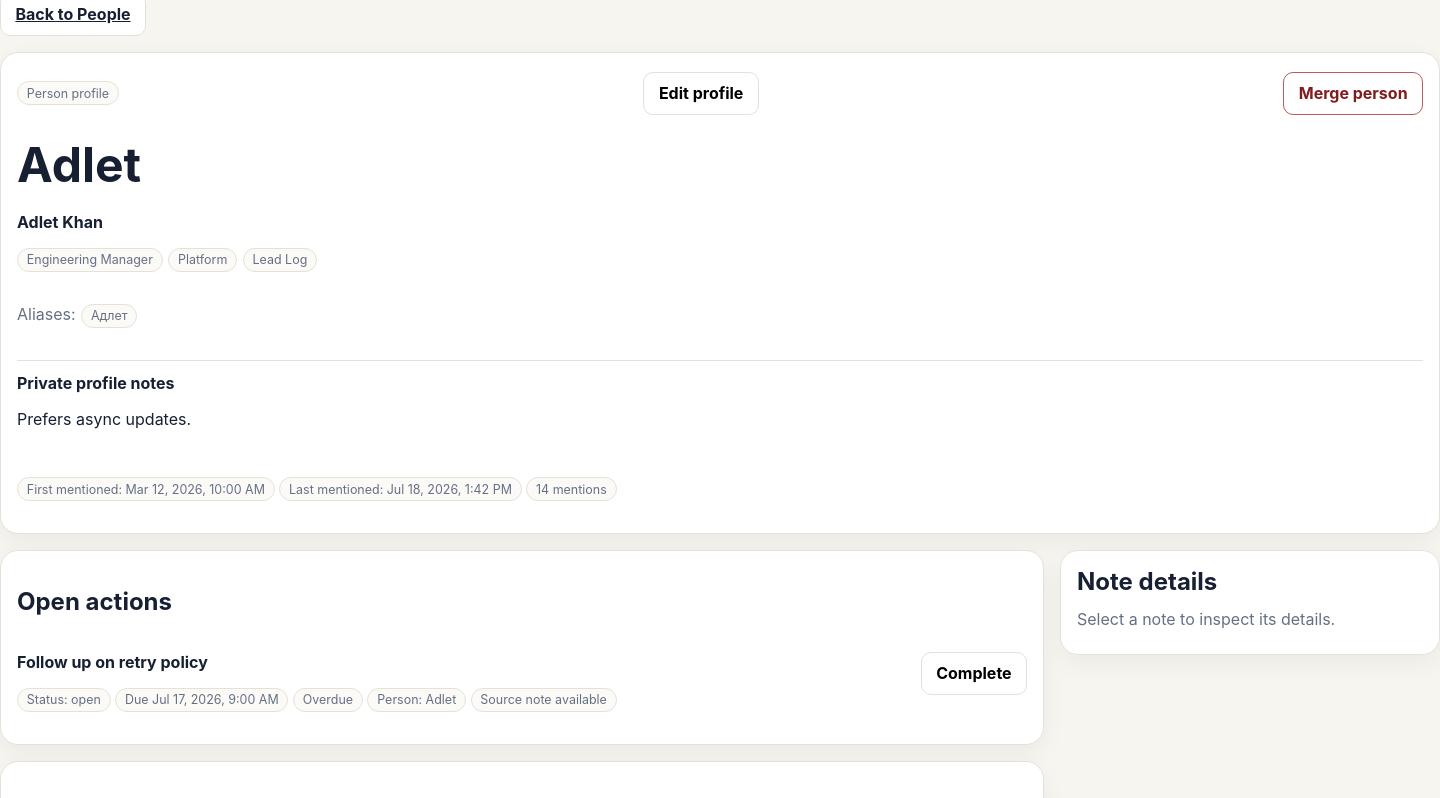
Scenario: PersonDetailPage › completes an action locally and shows section-level mutation failures
Expected: the text "Follow up on retry policy" is shown, [17,652,208,672]
Click the button with aria-label "Complete action": (974, 673) [921,652,1027,695]
(page scrolled)
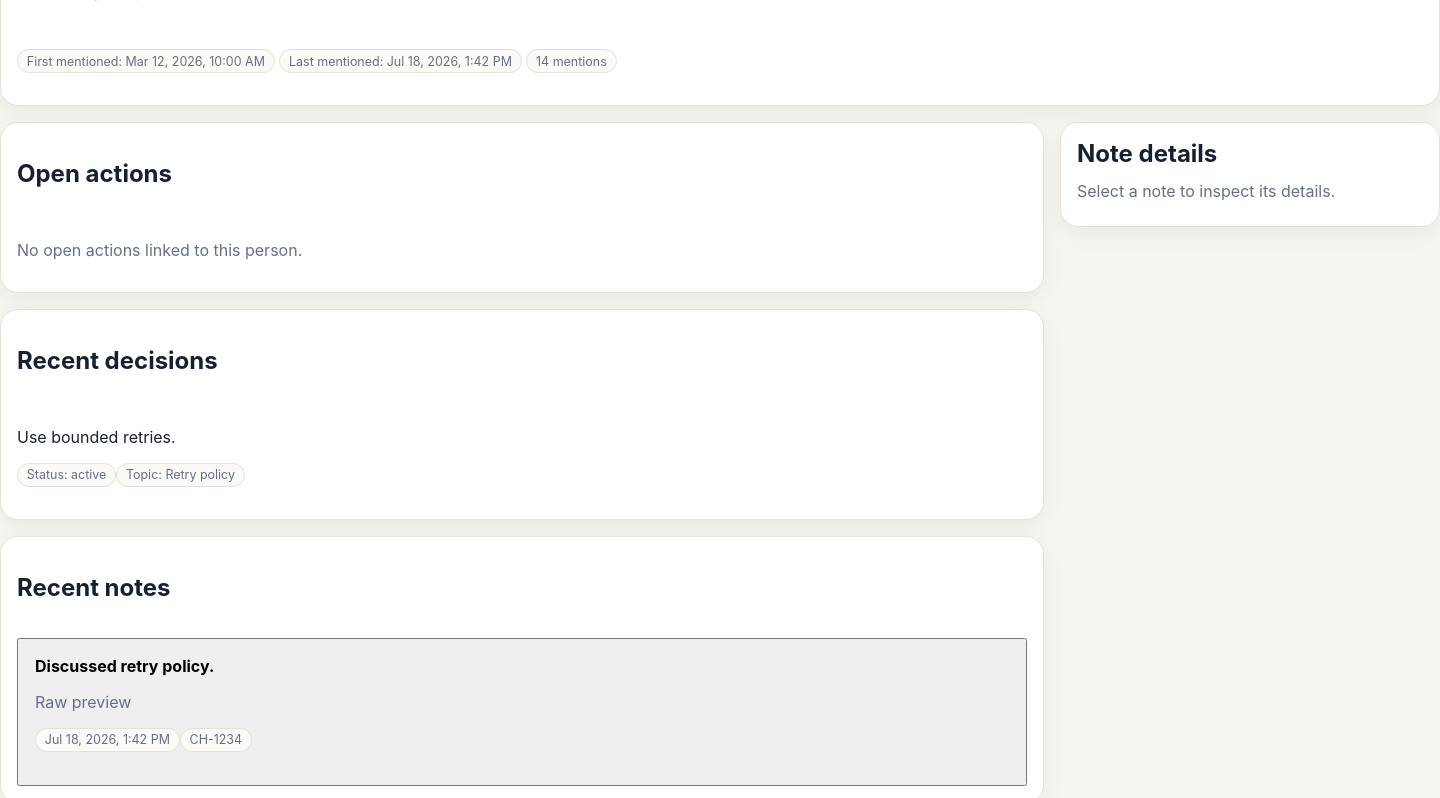
Expected: the text "Use bounded retries." is shown, [17,427,176,447]
Result: the text "Follow up on retry policy" is gone
